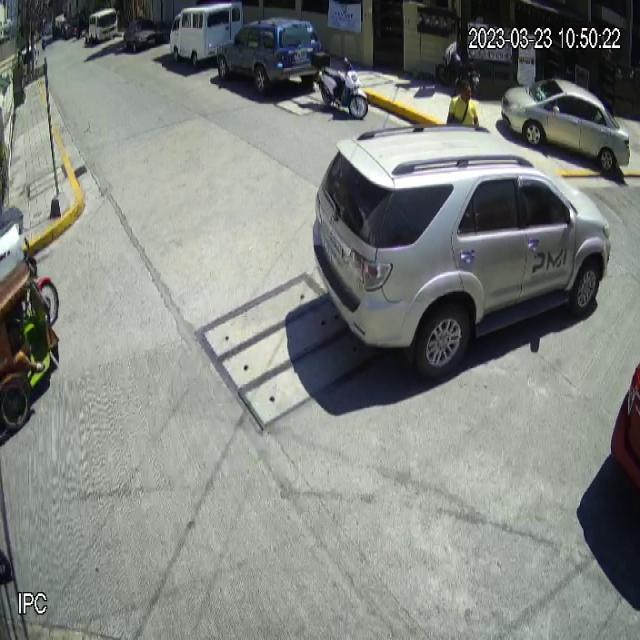Car: (312, 118, 612, 380), (501, 78, 630, 171), (216, 16, 323, 96)
Motorcycle: (309, 49, 369, 120)
Van: (169, 0, 242, 69)
